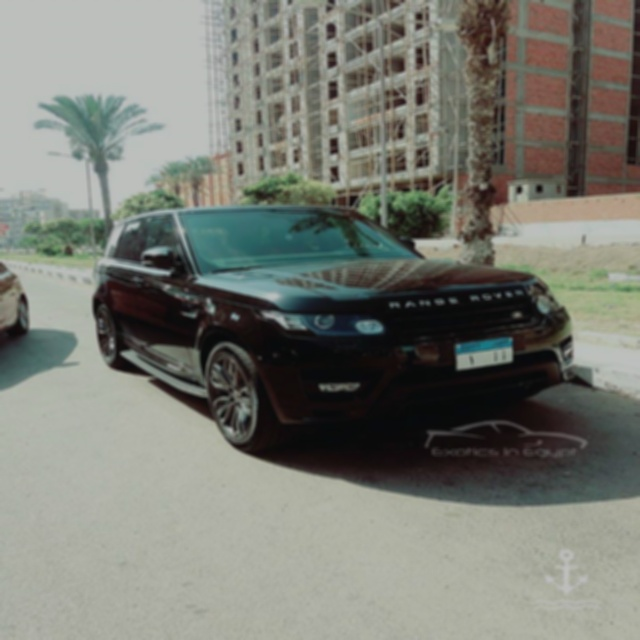License Plate: (454, 336, 515, 373)
